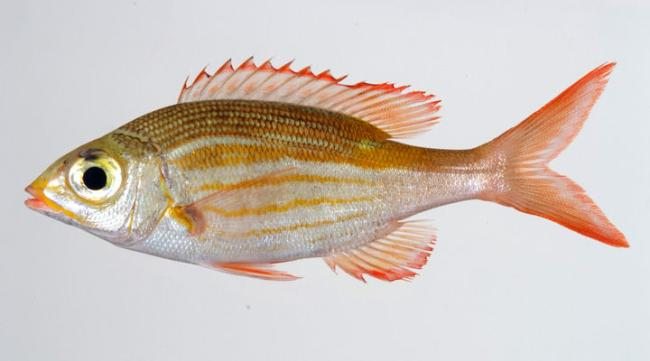fish: (24, 55, 631, 286)
